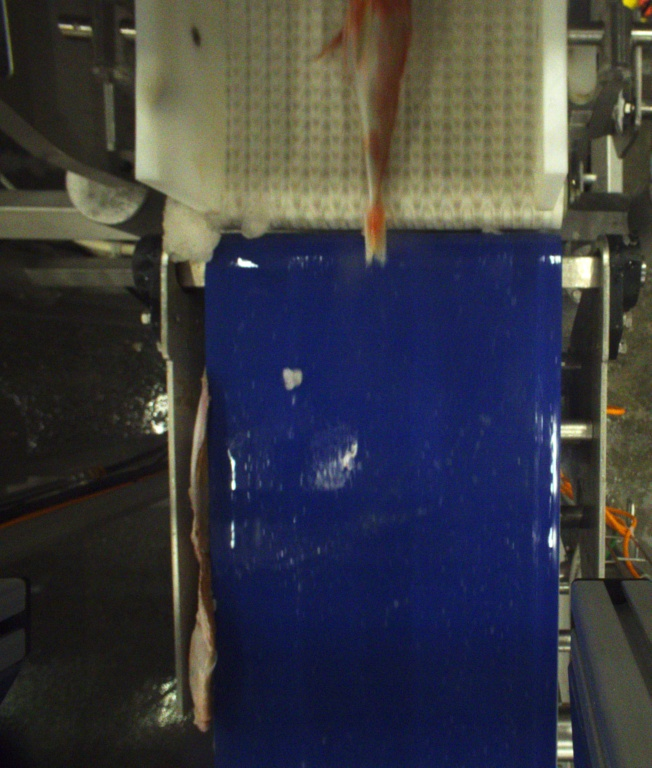GUU: (314, 0, 415, 268)
